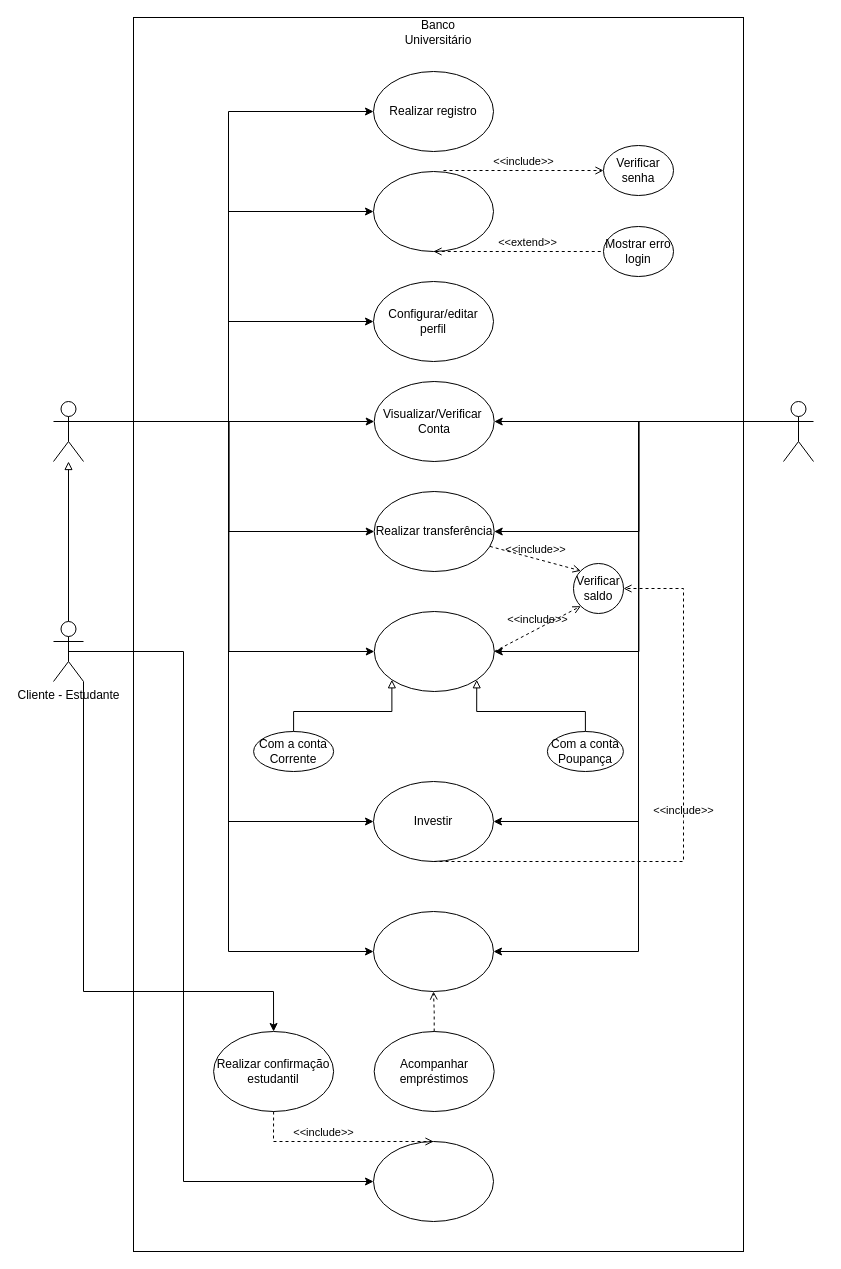
Some shapes in this 841 by 1269 pixel diagram are drawn without their labels. The box of each missing label's shape, as (x1, y1, x2, y2) in pixels:
BaaS API: (782, 400, 814, 462)
Cliente: (52, 400, 84, 462)
Fazer Login: (372, 170, 494, 252)
Pagar contas: (373, 610, 494, 692)
Solicitar empréstimo: (372, 910, 494, 992)
Visualizar descontos especiais: (372, 1140, 494, 1222)
